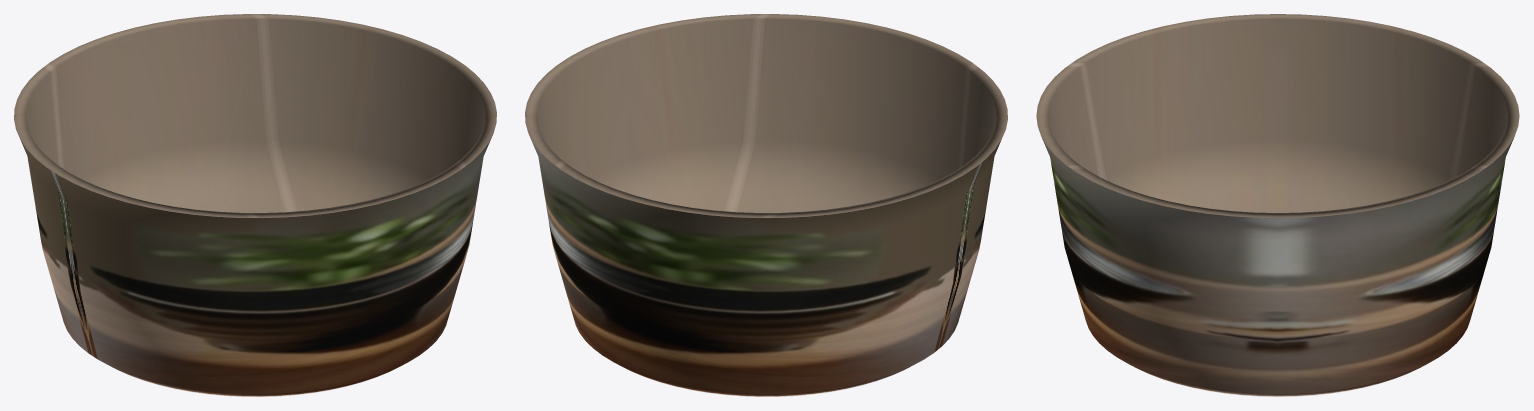
File: ORI-11.glb
The picture shows the model from 3 angles, left to right: view 1: azimuth 30°, elevation 25°; view 2: azimuth 150°, elevation 25°; view 3: azimuth 270°, elevation 25°; orthographic projection.
Size of the model in its own units: 0.15 by 0.07 by 0.15.
2 materials, 2 textured.
